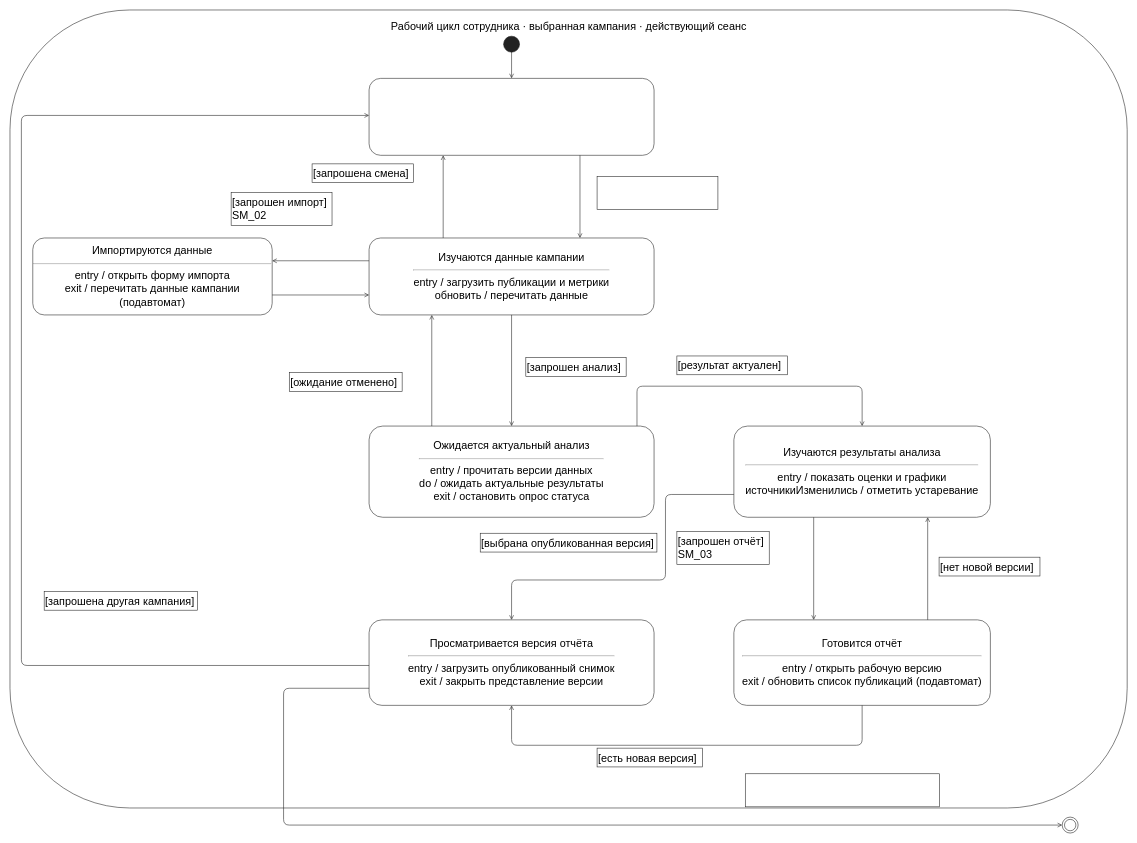
Image size: 1137x843. Some labels were removed from this diagram. Here are the shapes that lost their labels. From the top down, the centre of each, then its label:
At (511,116): "Выбирается кампания entry / показать доступные кампании".
At (657,192): "[кампания выбрана] / установить кампанию".
At (842,790): "[завершение запрошено и разрешено] / закрыть рабочую область".
